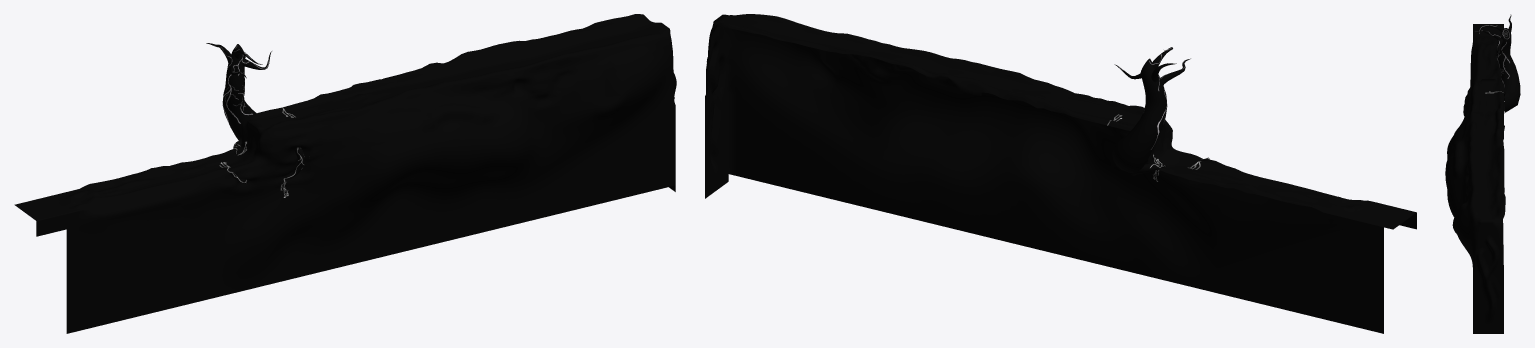
Rendered from DEsign_parte_001.fbx.
The picture shows the model from 3 angles, left to right: view 1: azimuth 30°, elevation 25°; view 2: azimuth 150°, elevation 25°; view 3: azimuth 270°, elevation 25°; orthographic projection. The views are drawn at different scales.
Parts seen in each view (by area): view 1: FirstLevel_Design.001, BezierCurve.003; view 2: FirstLevel_Design.001, BezierCurve.003; view 3: FirstLevel_Design.001, BezierCurve.003.
Boxes of the visible parts, bbox=[...] form: FirstLevel_Design.001: bbox=[14, 14, 676, 333]; BezierCurve.003: bbox=[206, 43, 304, 183]; FirstLevel_Design.001: bbox=[705, 14, 1416, 333]; BezierCurve.003: bbox=[1112, 47, 1209, 175]; FirstLevel_Design.001: bbox=[1445, 24, 1505, 333]; BezierCurve.003: bbox=[1474, 14, 1520, 112].
Bounding box in the file's own units: 8498 × 2977 × 1210.
